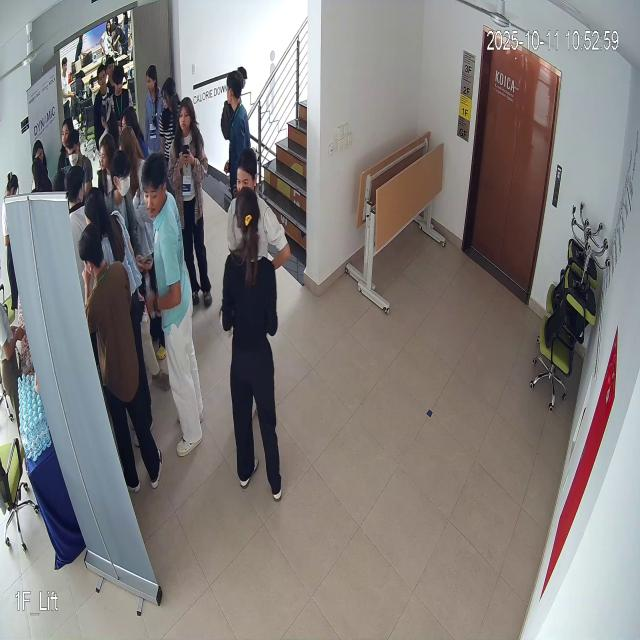face: (141, 144, 169, 231)
